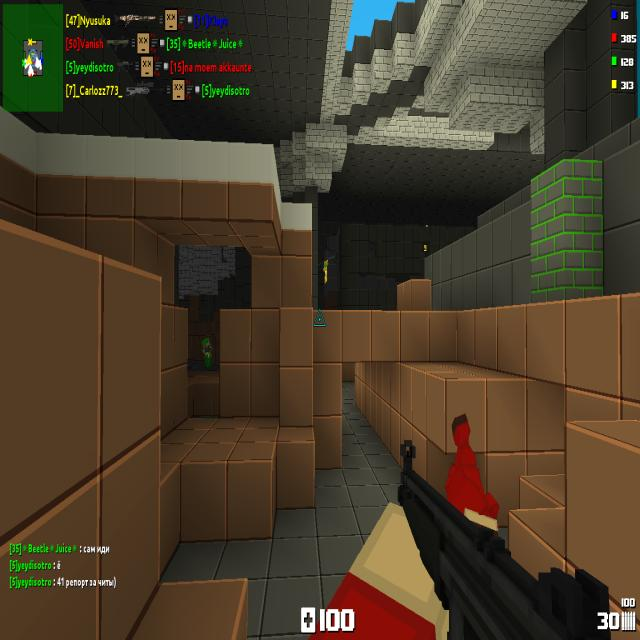enemy: (201, 336, 213, 371), (323, 260, 328, 284), (424, 245, 426, 251), (425, 224, 428, 227)
